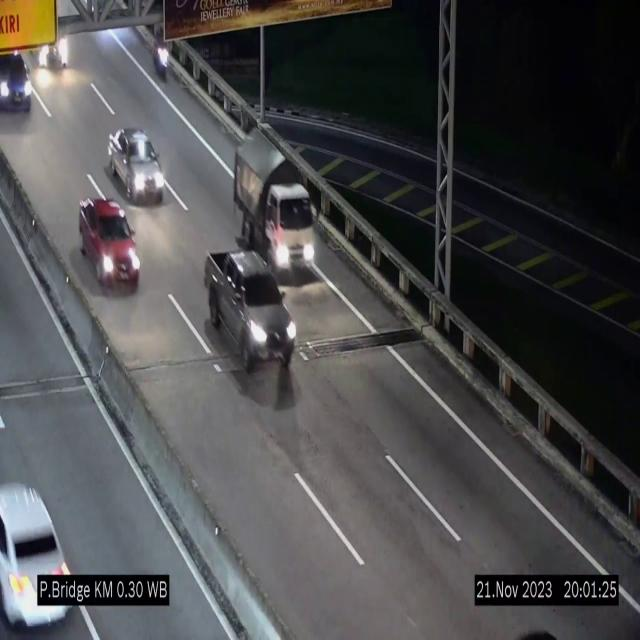Car: (204, 250, 296, 373), (80, 198, 140, 286), (107, 128, 165, 203)
Motorcycle: (153, 27, 170, 87)
Truck: (233, 134, 315, 278)
